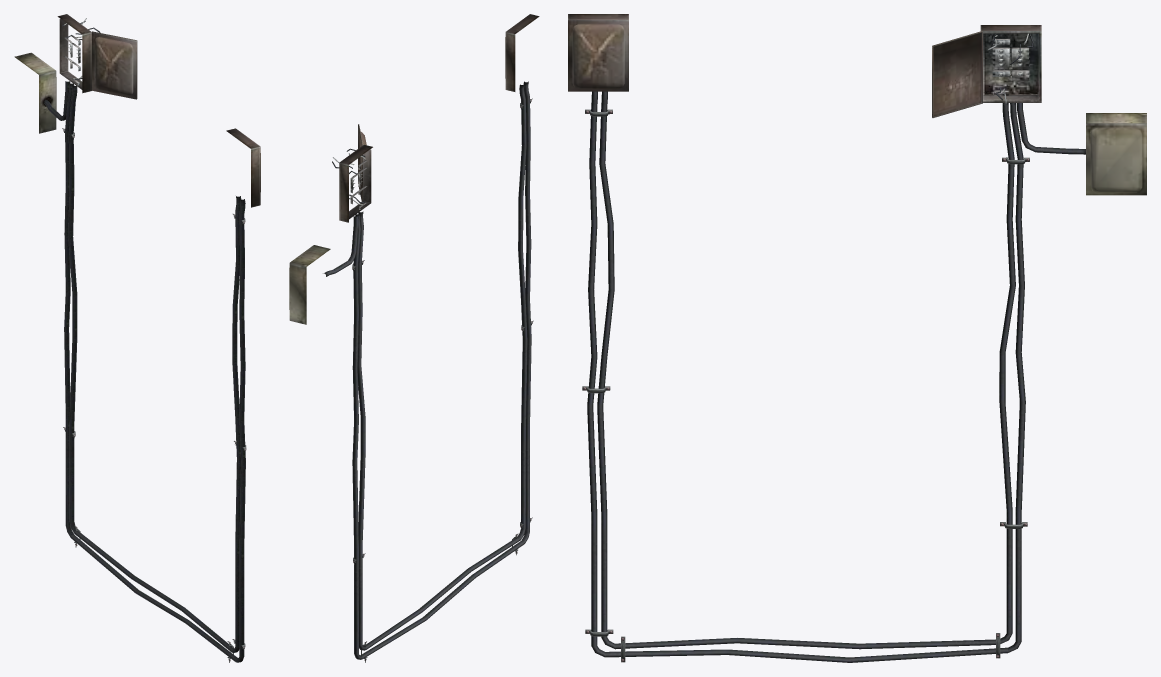
Rendered from wall_wires2.glb.
3 renders of one model, left to right at view 1: azimuth 30°, elevation 25°; view 2: azimuth 150°, elevation 25°; view 3: azimuth 270°, elevation 25°, orthographic. The views are drawn at different scales.
Visible parts, largest first — view 1: 0_wall_wires1; view 2: 0_wall_wires1; view 3: 0_wall_wires1.
Boxes of the visible parts, x1,y1,x2,y2 form: 0_wall_wires1: (14, 14, 260, 662); 0_wall_wires1: (289, 14, 539, 662); 0_wall_wires1: (568, 14, 1146, 662).
Bounding box in the file's own units: 0.1684 × 2.39 × 1.93.
Materials: 1 (1 with a texture image).
